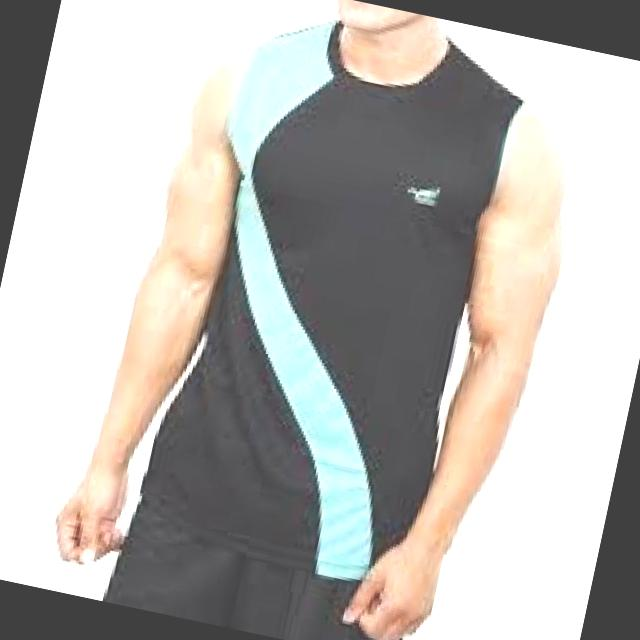no_vest: (131, 0, 536, 595)
